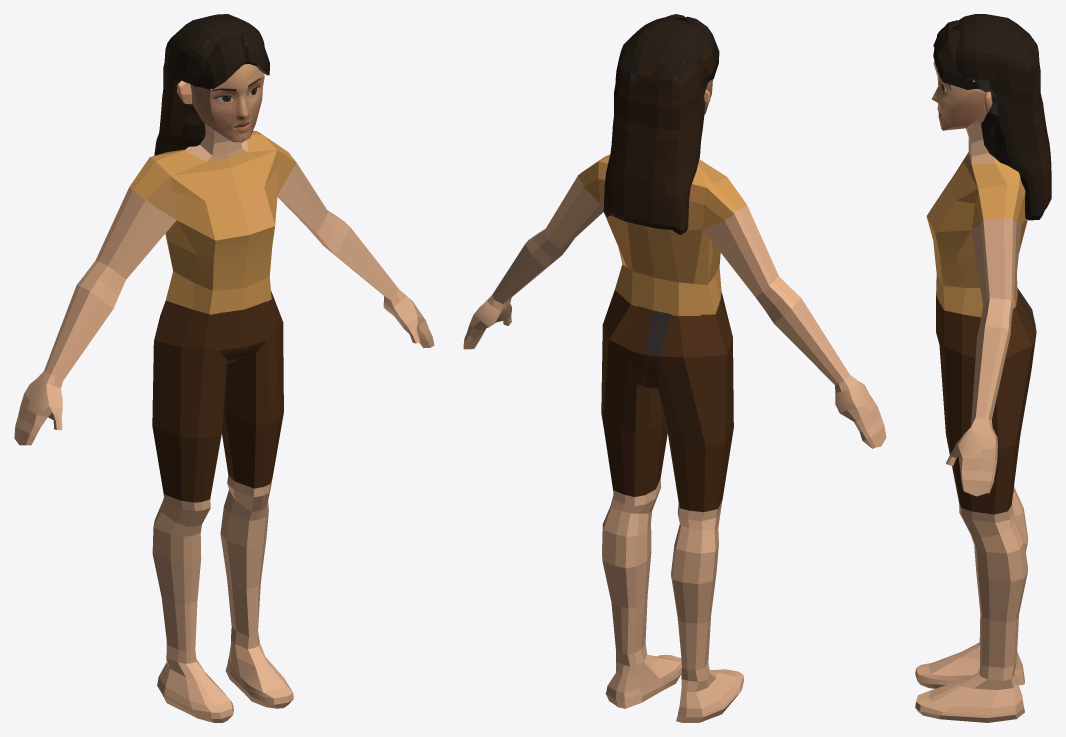
The model's file is Chaba_final.fbx.
The picture shows the model from 3 angles, left to right: view 1: azimuth 30°, elevation 25°; view 2: azimuth 150°, elevation 25°; view 3: azimuth 270°, elevation 25°; orthographic projection.
Visible parts, largest first — view 1: Women2; view 2: Women2; view 3: Women2.
Part boxes in pixels (x1,y1,x2,y2): Women2: (14, 14, 434, 722); Women2: (463, 14, 886, 722); Women2: (915, 14, 1051, 722).
Size of the model in its own units: 3.08 by 4.82 by 0.8833.
Materials: 1 (1 with a texture image).
